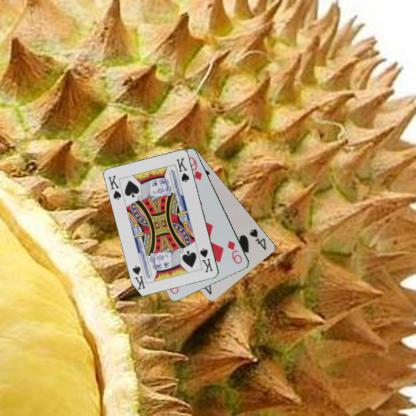4s: (247, 226, 268, 251)
9d: (225, 238, 244, 265)
Ks: (198, 245, 214, 274), (106, 173, 122, 201)
